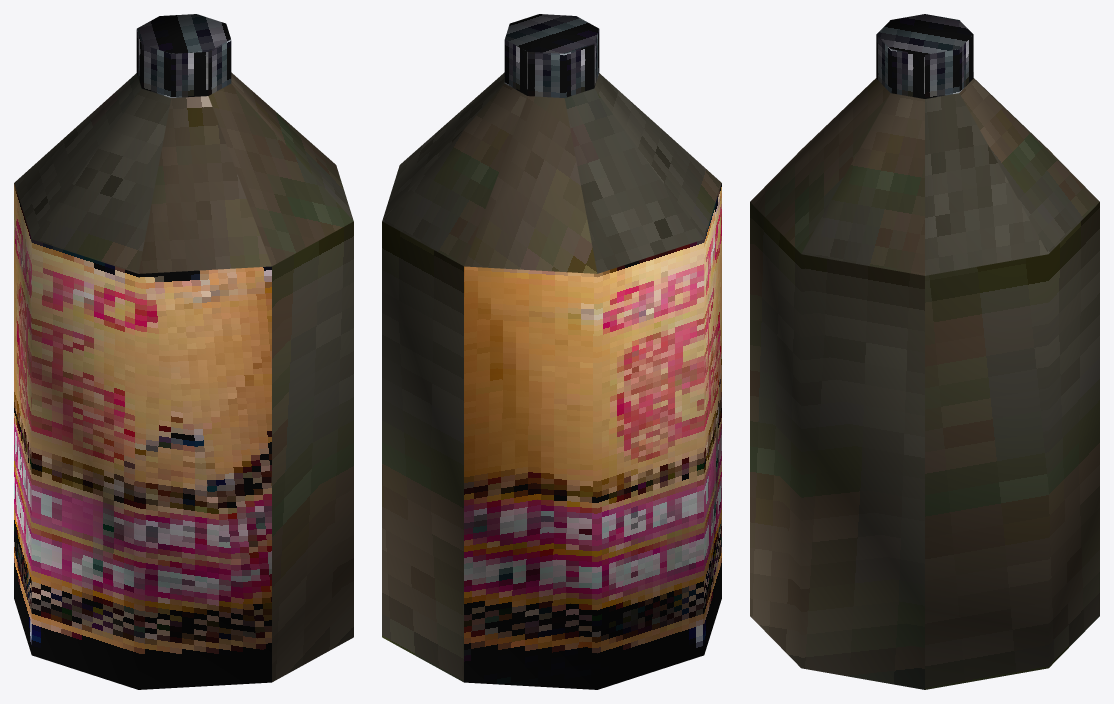
The model's file is disolvente.gltf.
The picture shows the model from 3 angles, left to right: view 1: azimuth 30°, elevation 25°; view 2: azimuth 150°, elevation 25°; view 3: azimuth 270°, elevation 25°; orthographic projection.
Parts seen in each view (by area): view 1: Disolvente; view 2: Disolvente; view 3: Disolvente.
Boxes of the visible parts, x1,y1,x2,y2 form: Disolvente: (14, 14, 353, 689); Disolvente: (382, 14, 721, 689); Disolvente: (750, 14, 1099, 689).
Bounding box in the file's own units: 0.36 × 0.66 × 0.36.
Materials: 1 (1 with a texture image).
